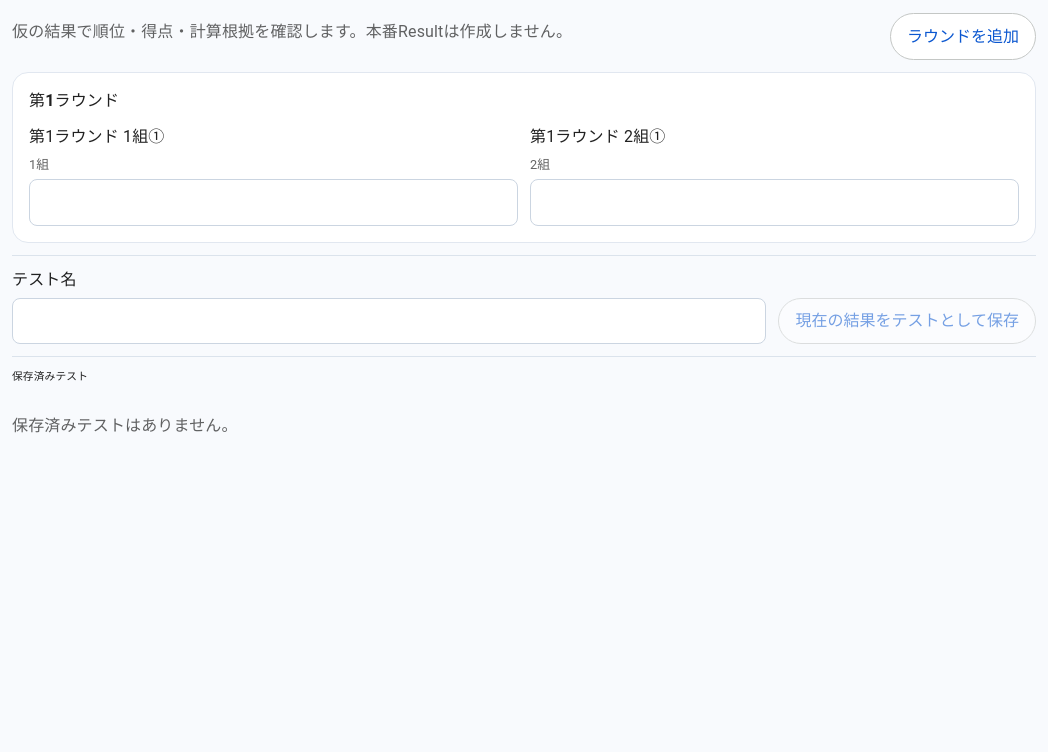
Test case: ScoringSimulatorPanel › calculates hypothetical ranks and award scores without creating real results
This screenshot has width=1048, height=752.
Step 1. Type "100" into the number field labelled "第1ラウンド 1組①" → (274, 203), box left=29, top=179, right=518, bottom=226
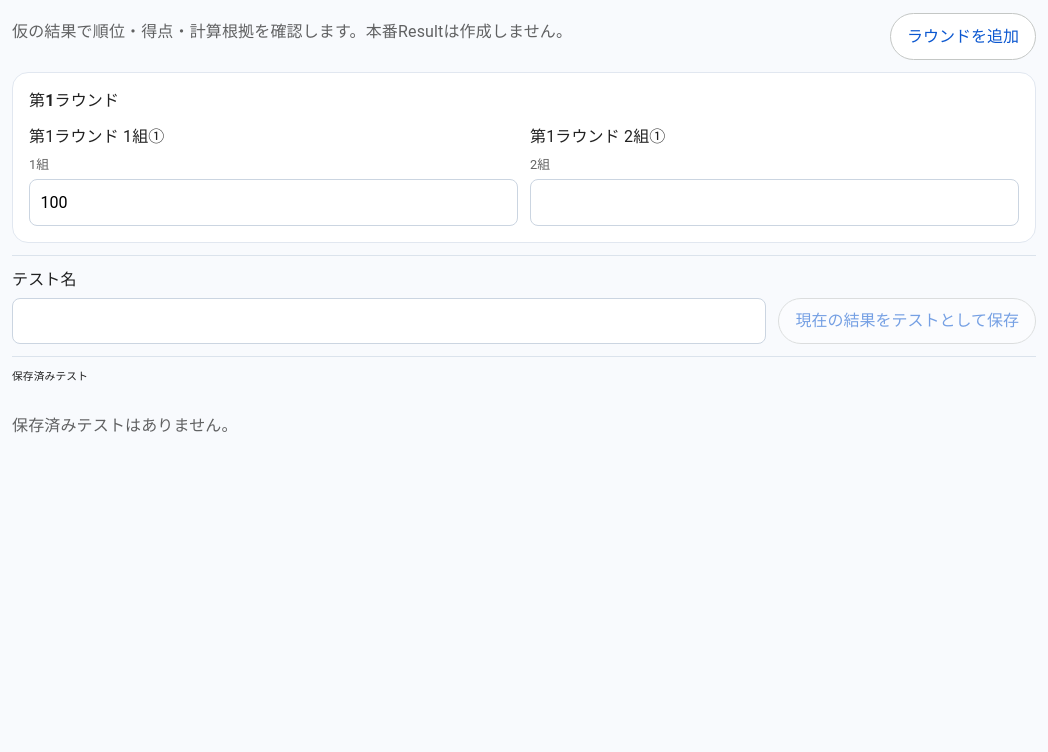
Step 2. Type "80" into the number field labelled "第1ラウンド 2組①" → (774, 203), box left=530, top=179, right=1019, bottom=226
(page scrolled)
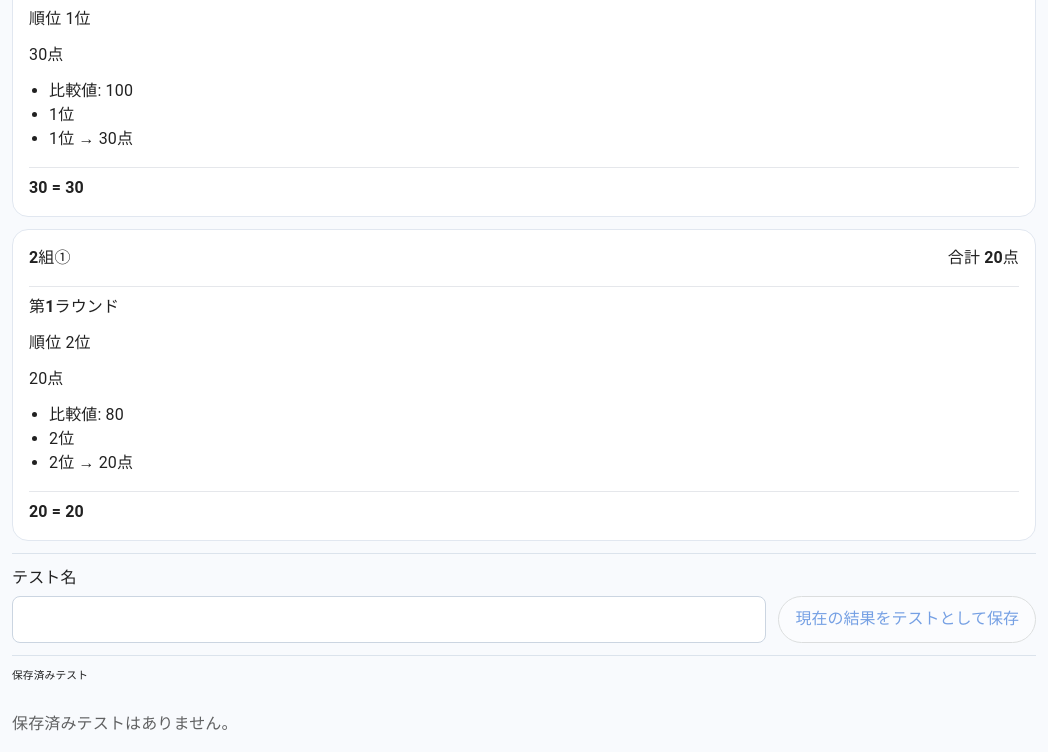
Check: the list item "1位" is shown, box left=49, top=105, right=74, bottom=124
Check: the text "30点" is shown, box left=29, top=45, right=64, bottom=64
Check: the list item "2位" is shown, box left=49, top=429, right=74, bottom=448
